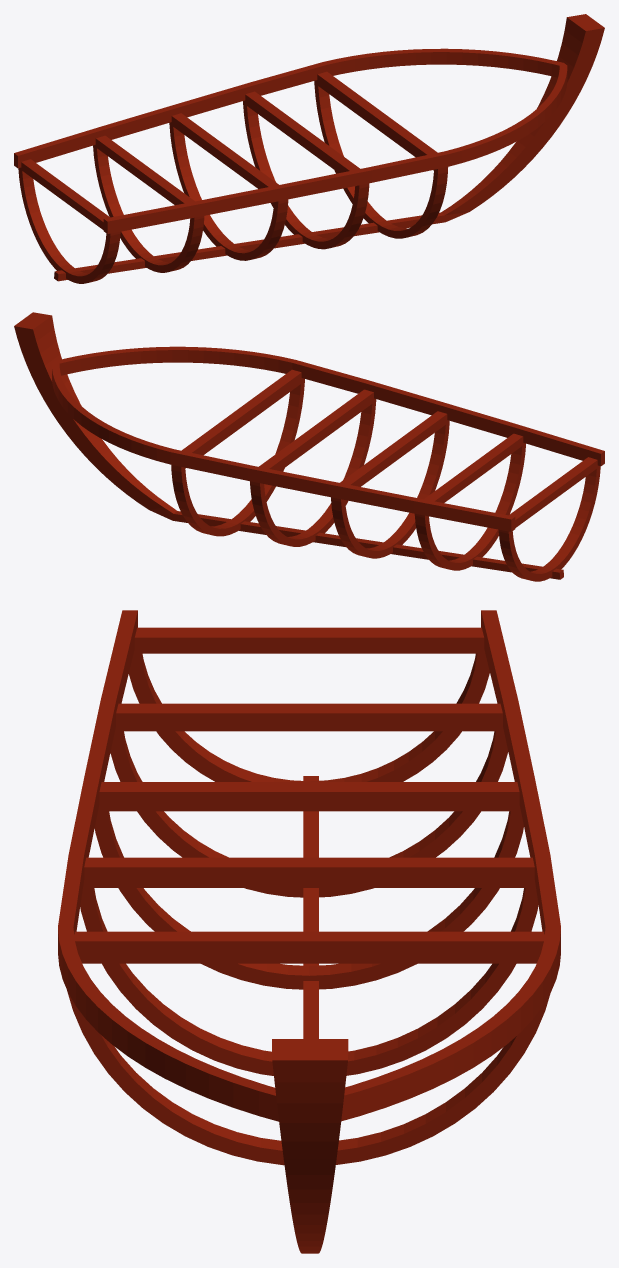
File: barco_1.fbx
3 views of the same model, one above another, from view 1: azimuth 30°, elevation 25°; view 2: azimuth 150°, elevation 25°; view 3: azimuth 270°, elevation 25° (orthographic). The views are drawn at different scales.
Parts seen in each view (by area): view 1: barco_1, Box008, Box003, Box009, Box004, Box005, Box006, Box007; view 2: barco_1, Box009, Box003, Box008, Box004, Box005, Box006, Box007; view 3: barco_1, Box003, Box004, Box005, Box006, Box007, Box008, Box009.
Boxes of the visible parts, x1,y1,x2,y2 form: barco_1: (54, 14, 604, 281); Box008: (103, 151, 448, 233); Box003: (314, 71, 448, 238); Box009: (14, 62, 326, 168); Box004: (243, 91, 369, 249); Box005: (169, 113, 288, 260); Box006: (93, 135, 204, 272); Box007: (18, 159, 120, 283); barco_1: (14, 312, 563, 579); Box009: (170, 449, 515, 531); Box003: (171, 369, 304, 536); Box008: (292, 360, 604, 466); Box004: (250, 389, 376, 546); Box005: (331, 411, 449, 558); Box006: (414, 433, 525, 570); Box007: (498, 457, 600, 581); barco_1: (58, 776, 560, 1253); Box003: (67, 931, 550, 1165); Box004: (80, 857, 538, 1075); Box005: (94, 782, 523, 989); Box006: (110, 703, 508, 897); Box007: (128, 627, 489, 781); Box008: (58, 610, 137, 934); Box009: (481, 610, 560, 934).
Size of the model in its own units: 798 by 233 by 323.
